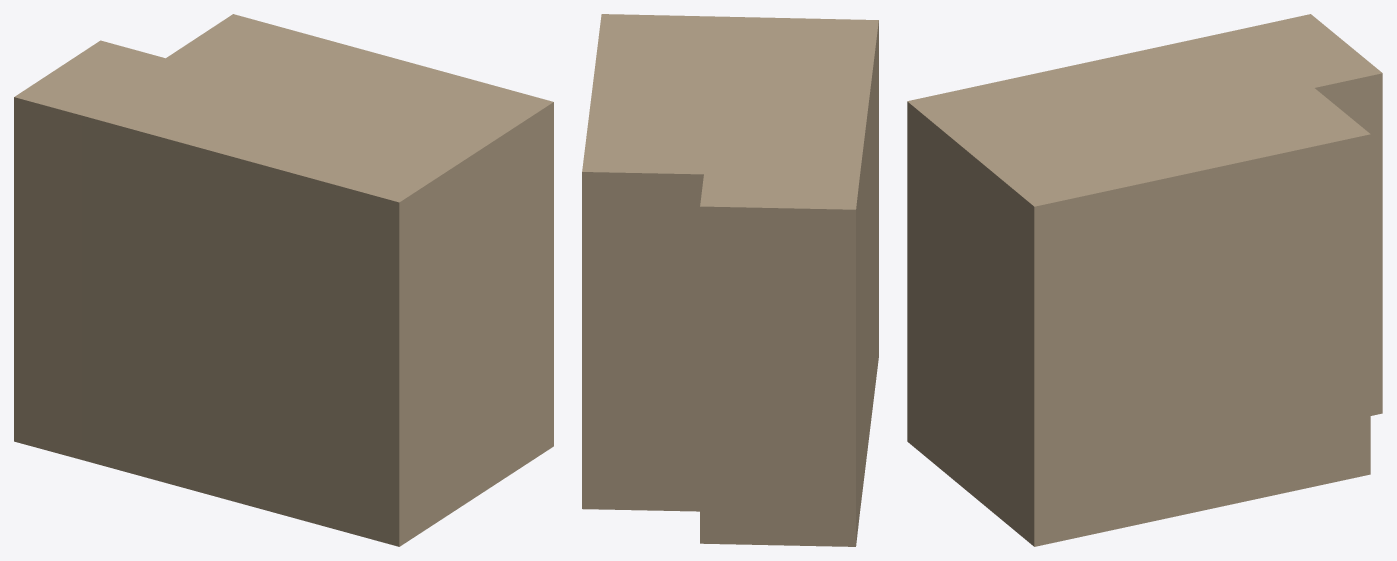
File: bld_107610461.dae
3 views of the same model, side by side, from view 1: azimuth 30°, elevation 25°; view 2: azimuth 150°, elevation 25°; view 3: azimuth 270°, elevation 25° (orthographic). The views are drawn at different scales.
Parts seen in each view (by area): view 1: bld_107610461; view 2: bld_107610461; view 3: bld_107610461.
Boxes of the visible parts, <box> form: bld_107610461: <box>14,14,553,546</box>; bld_107610461: <box>582,14,878,546</box>; bld_107610461: <box>907,14,1382,546</box>.
Size of the model in its own units: 9.72 by 10.14 by 8.
